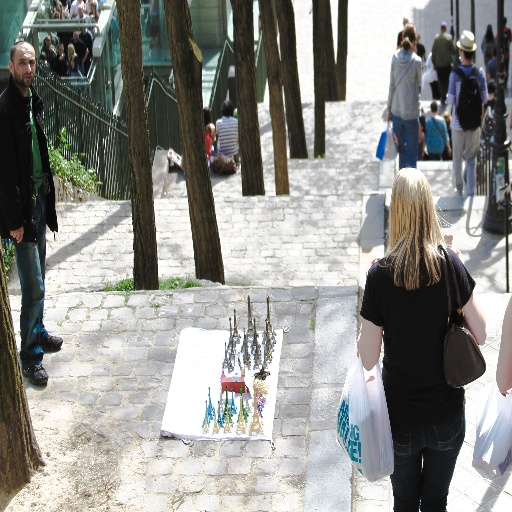hand: (9, 220, 23, 243), (365, 258, 378, 278), (450, 248, 464, 263), (385, 110, 393, 121)
